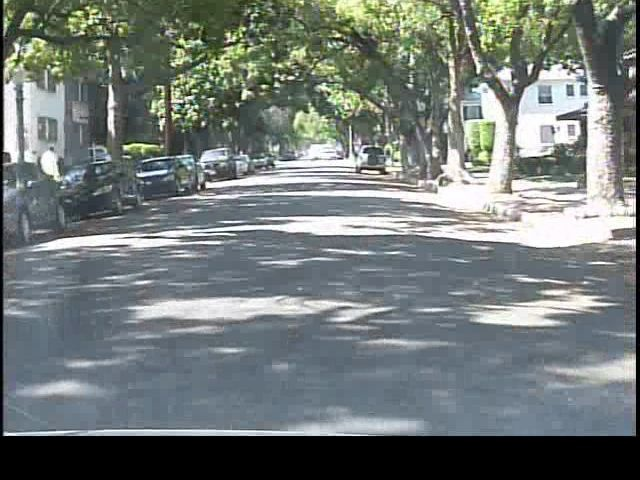person: (40, 139, 68, 203)
